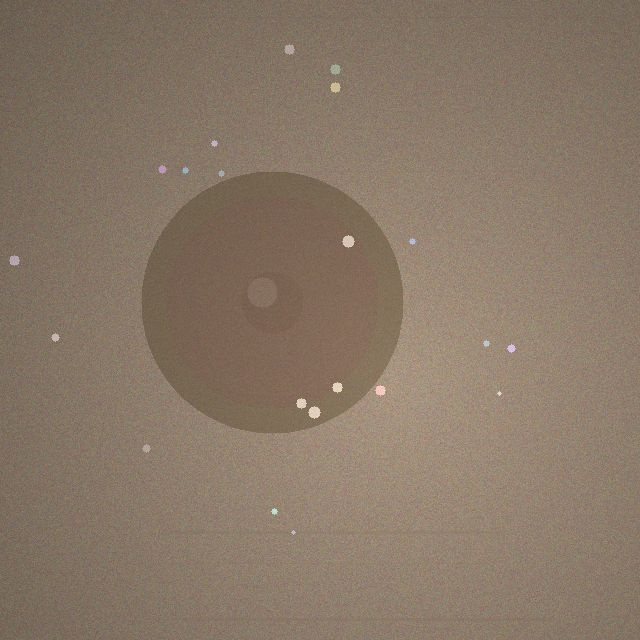overburn: (141, 171, 403, 433)
